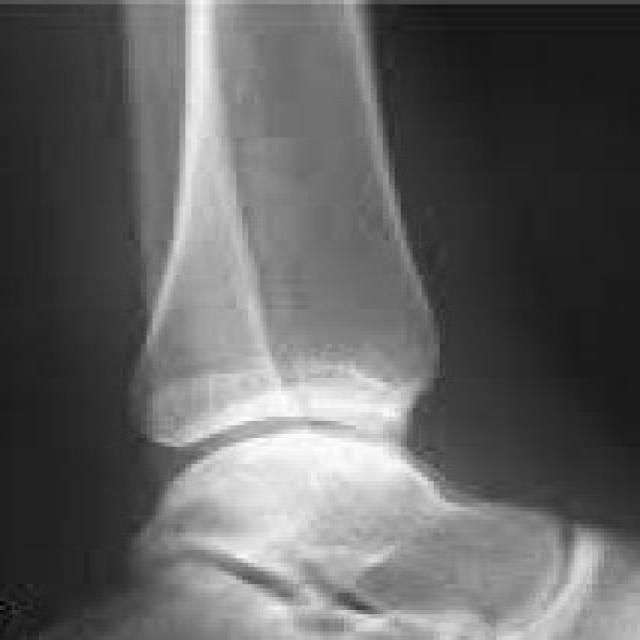Fracture: (106, 342, 481, 614)
